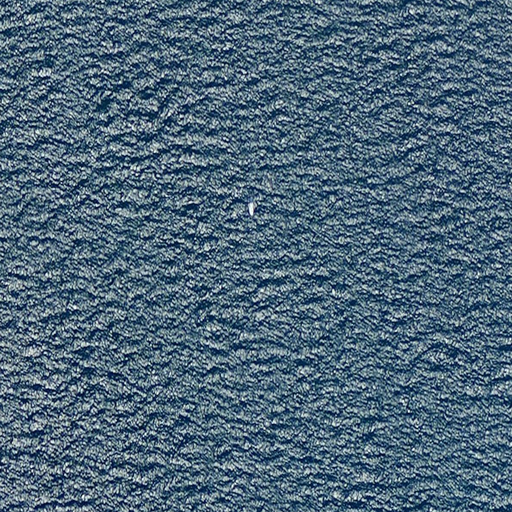ship: (246, 201, 257, 220)
